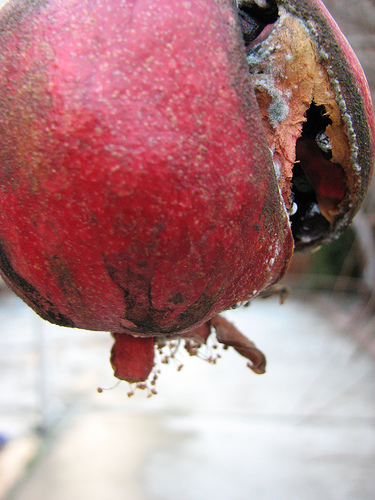pomogranate: (0, 0, 373, 383)
